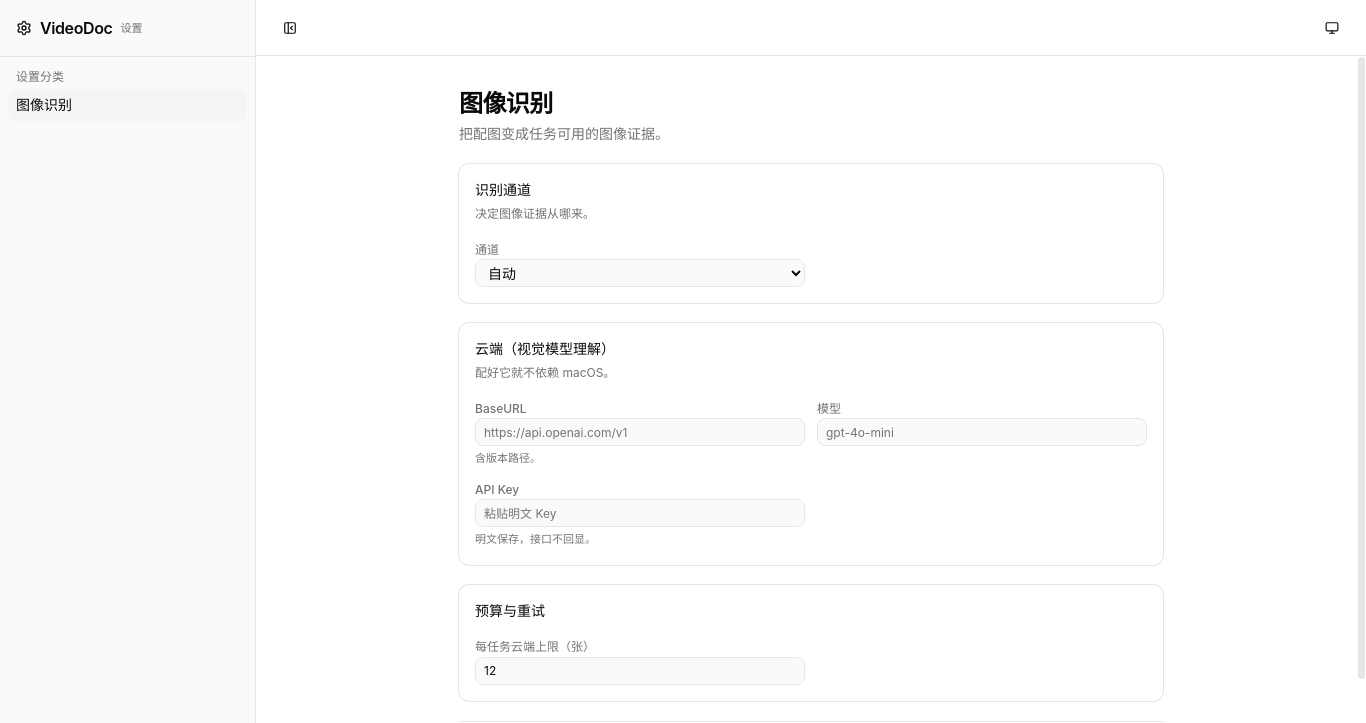
Test: 设置页（左分类 / 右设置项） › 保存时按 schema 的字段 key 组装 capabilities.<能力> 负载，空密钥不提交
expect the heading "图像识别" is shown: met, box x1=459 y1=89 x2=553 y2=118
Select "仅云端（外部视觉模型）" in the dropdown labelled "通道" at (640, 273), box x1=475 y1=259 x2=805 y2=287
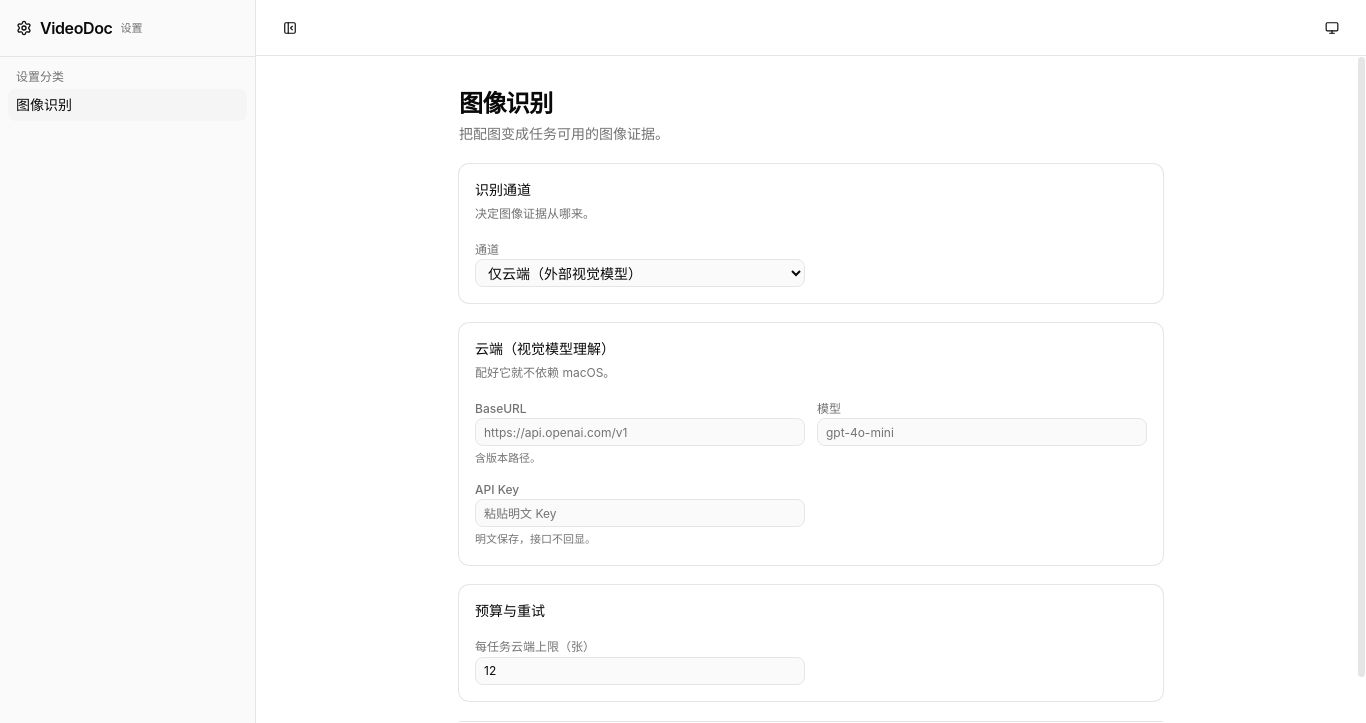
Type "http://192.168.8.211:3006/v1" into the field labelled "BaseURL".
click(640, 432); type("http://192.168.8.211:3006/v1")  # box x1=475 y1=418 x2=805 y2=446
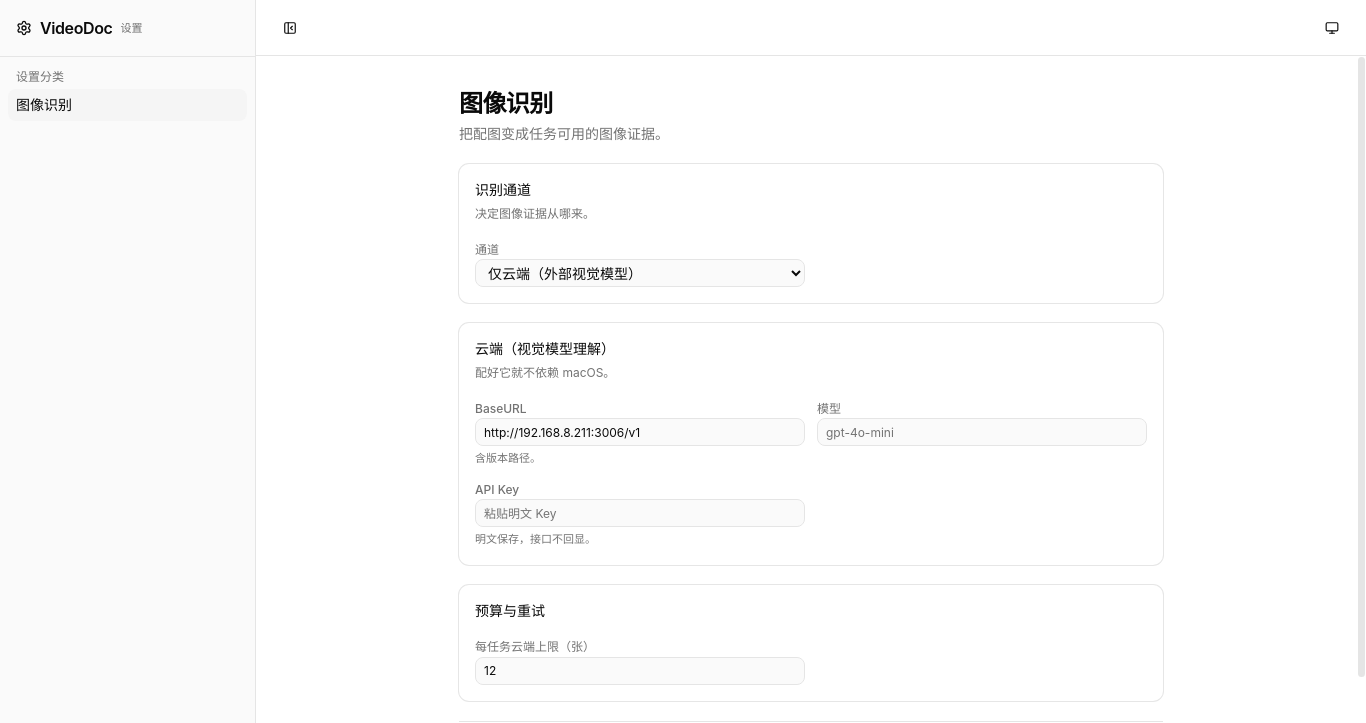
Type "gemini-3.5-flash-lite" into the field labelled "模型".
click(982, 432); type("gemini-3.5-flash-lite")  # box x1=817 y1=418 x2=1147 y2=446
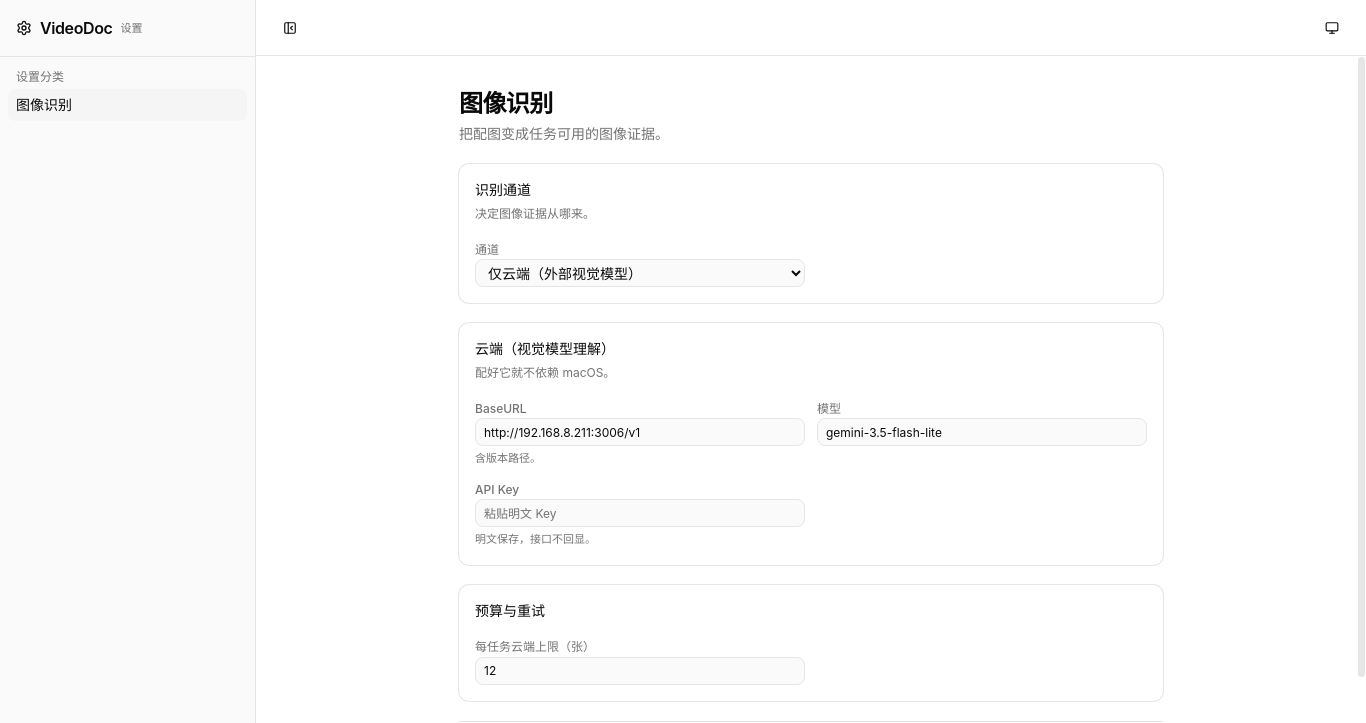
Replace the text in the number field labelled "每任务云端上限（张）" with "6" at (640, 671), box x1=475 y1=657 x2=805 y2=685
(page scrolled)
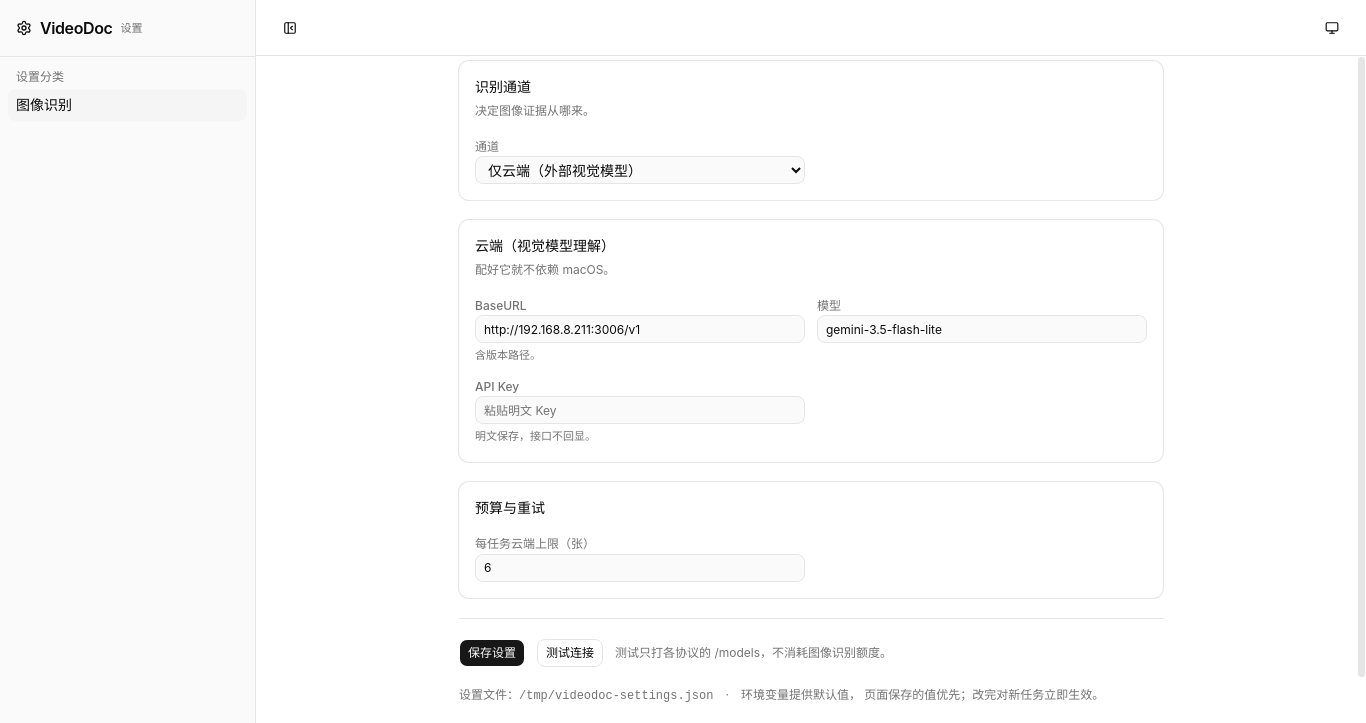
Click the button "保存设置".
click(492, 653)  # box x1=459 y1=639 x2=525 y2=667
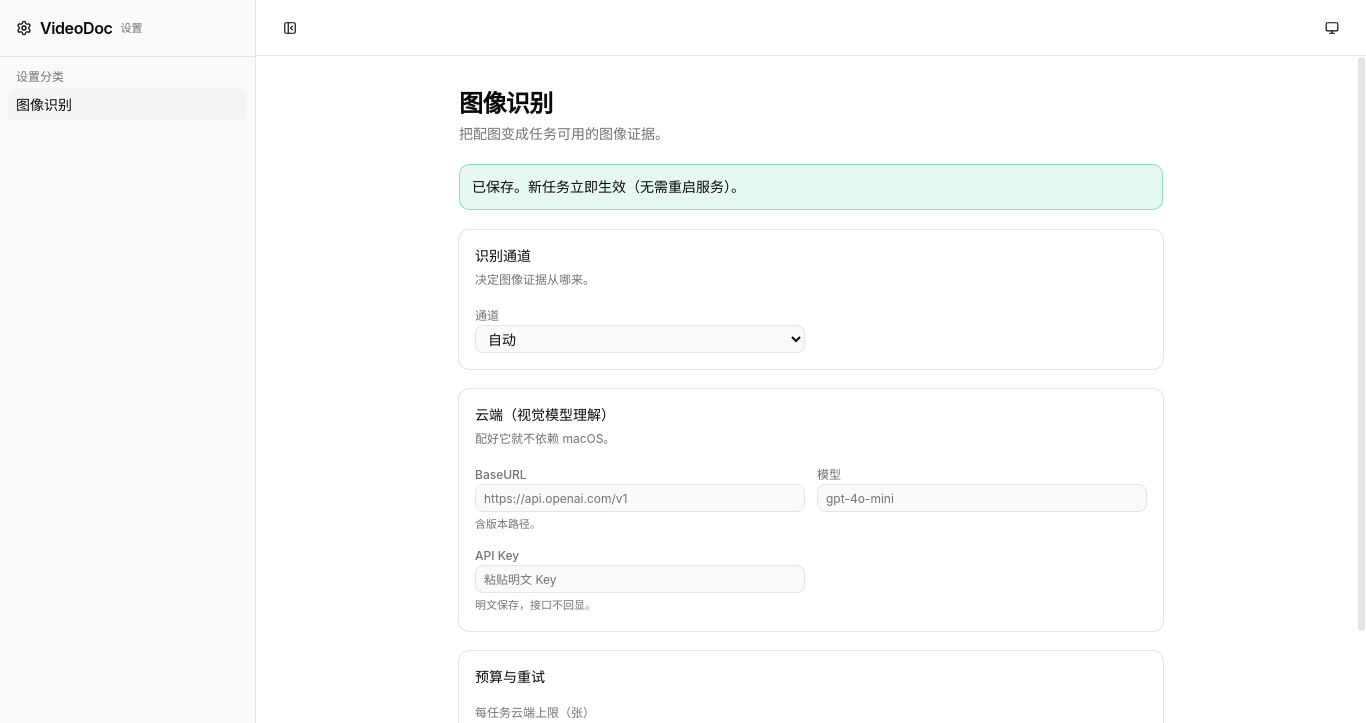
expect the text "已保存。新任务立即生效（无需重启服务）。" is shown: met, box x1=459 y1=164 x2=1163 y2=210
